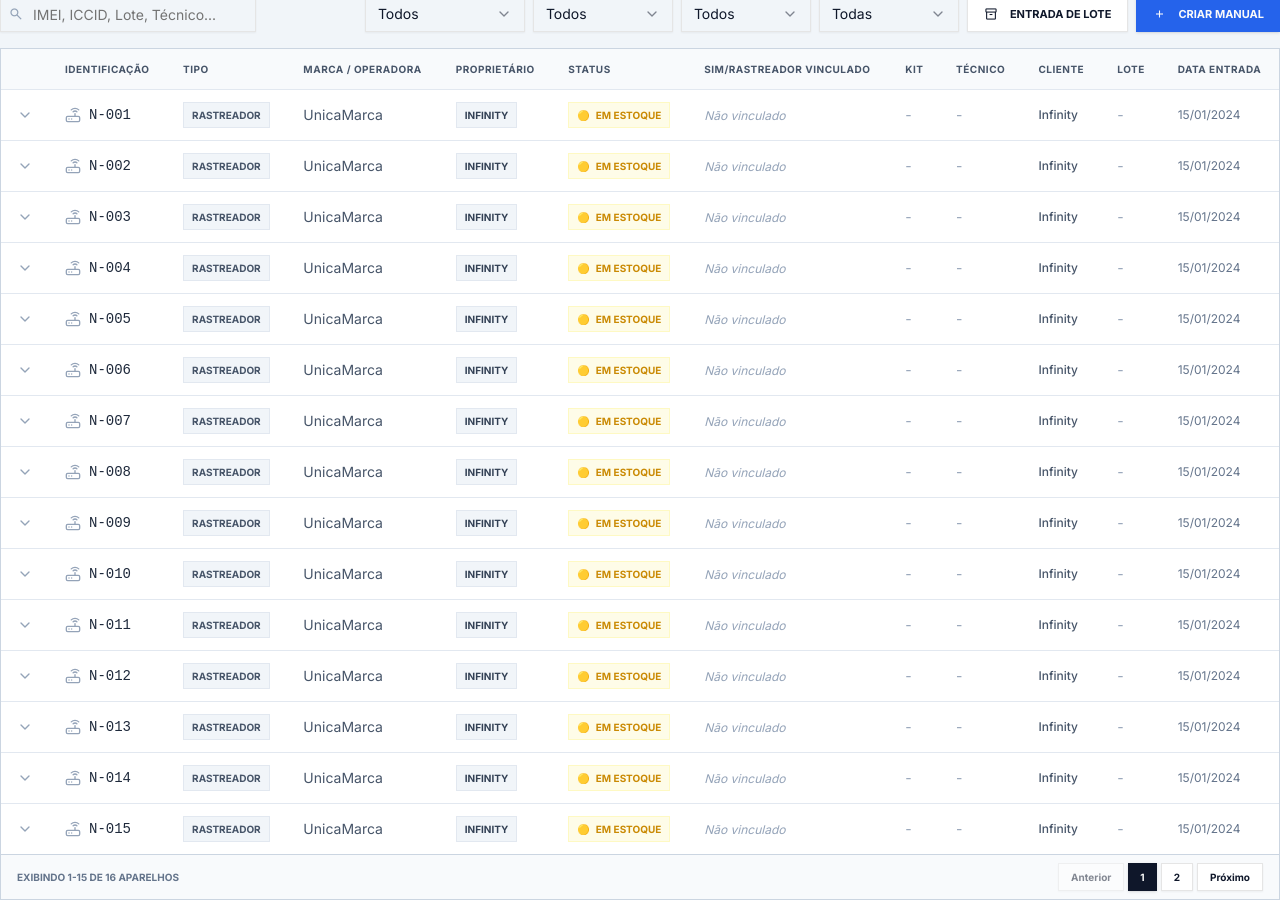
Scenario: AparelhosPage (fluxo integrado) › paginação: na segunda página vê o item além de PAGE_SIZE; anterior volta
(page scrolled)
Expected: the text "N-001" is shown, [89, 104, 131, 124]
Click the button with test id "aparelhos-page-next": coordinates (1230, 876) [1197, 862, 1263, 890]
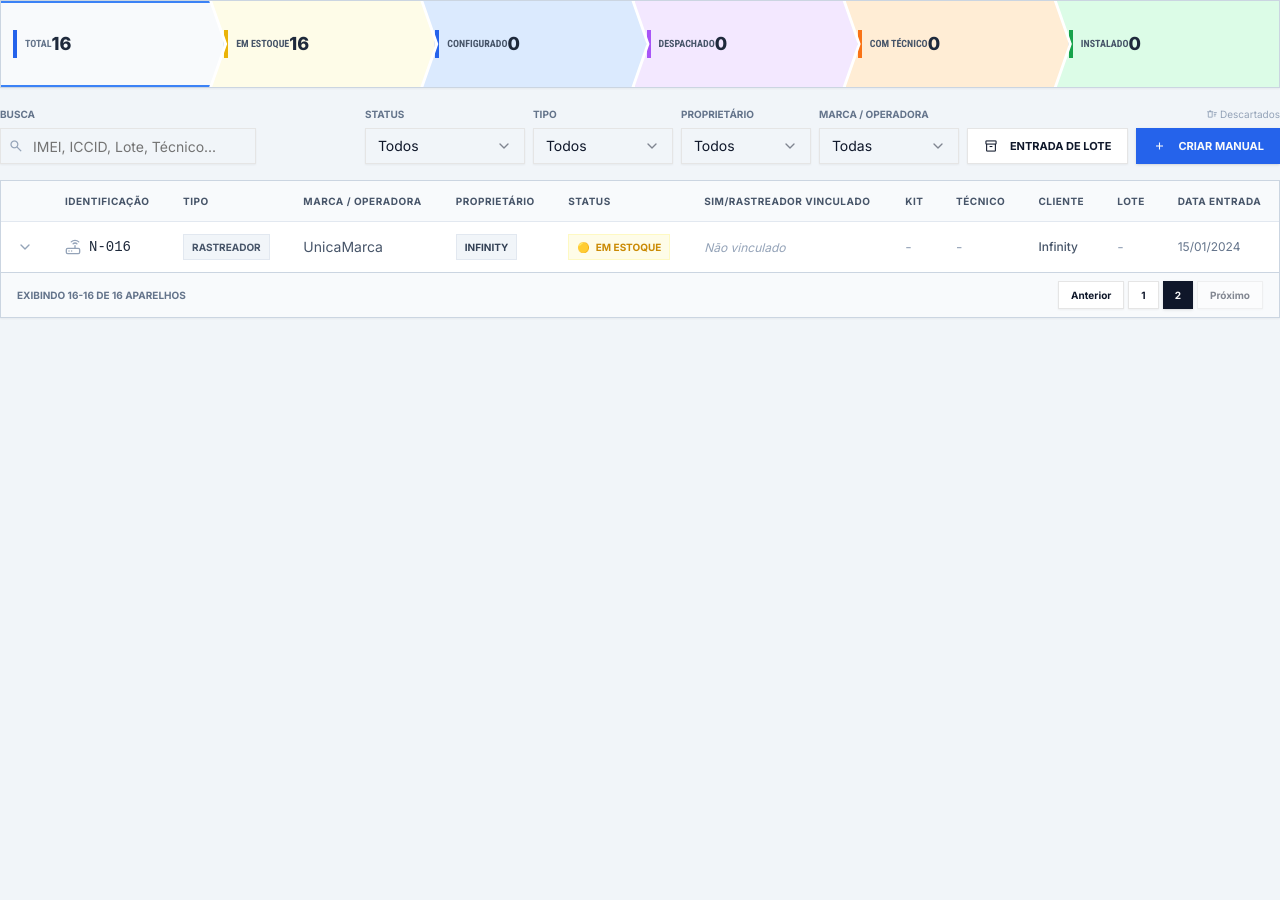
Expected: the text "N-001" is gone
Click the button with test id "aparelhos-page-prev": coordinates (1091, 294) [1058, 280, 1124, 308]
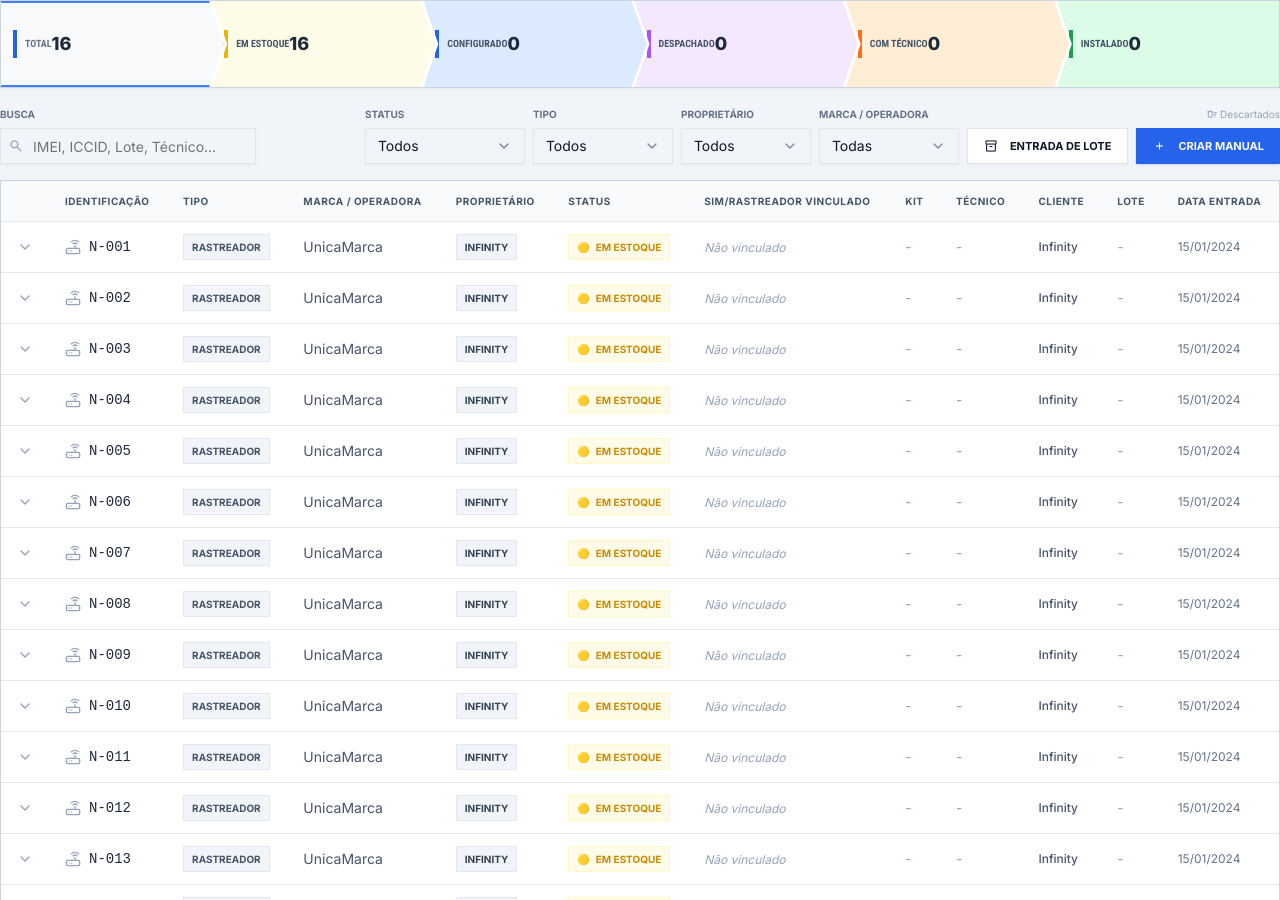
Expected: the text "N-001" is shown, [89, 236, 131, 256]
